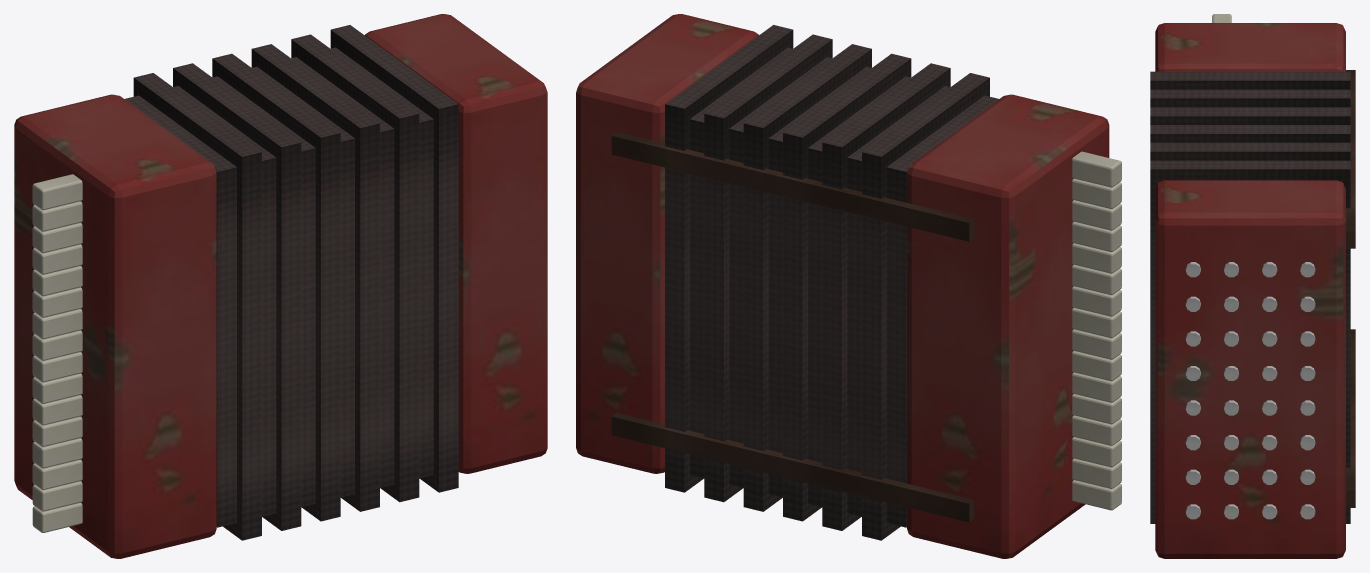
The model's file is MU10_Accordion.glb.
3 views of the same model, side by side, from view 1: azimuth 30°, elevation 25°; view 2: azimuth 150°, elevation 25°; view 3: azimuth 270°, elevation 25° (orthographic). The views are drawn at different scales.
Parts seen in each view (by area): view 1: MU10_Accordion; view 2: MU10_Accordion; view 3: MU10_Accordion.
Boxes of the visible parts, x1=… form: MU10_Accordion: x1=14, y1=14, x2=547, y2=558; MU10_Accordion: x1=576, y1=14, x2=1121, y2=558; MU10_Accordion: x1=1150, y1=14, x2=1355, y2=558.
Size of the model in its own units: 0.5 by 0.3796 by 0.1991.
Materials: 5 (5 with a texture image).
